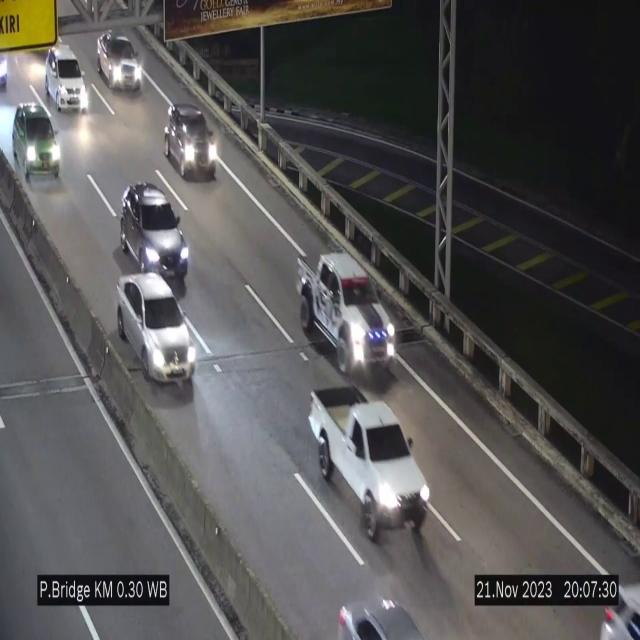Car: (309, 385, 429, 541), (297, 251, 399, 381), (117, 275, 195, 384), (119, 182, 189, 281), (162, 102, 220, 191), (9, 100, 65, 182), (46, 43, 88, 112), (96, 31, 143, 90)
